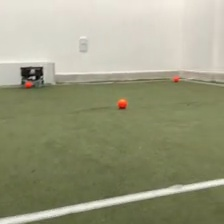ball: (117, 97, 127, 109), (24, 79, 33, 88), (172, 74, 180, 83)
goal: (1, 60, 58, 86)
robot: (20, 64, 45, 89)
